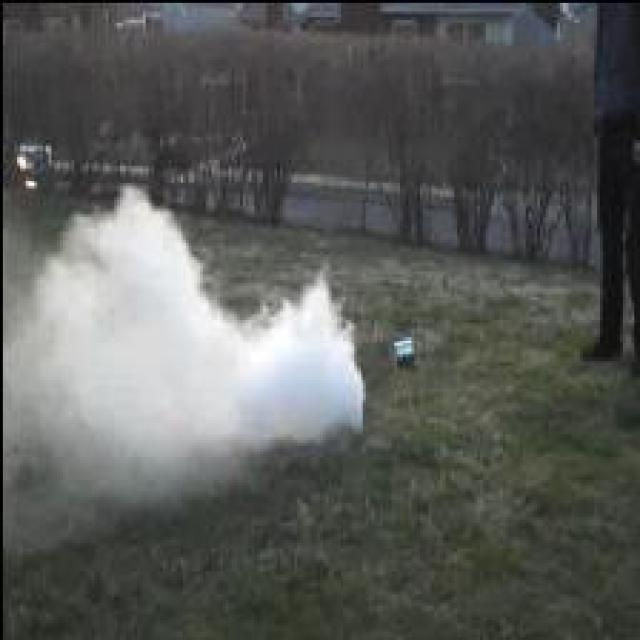Smoke: (7, 187, 367, 560)
